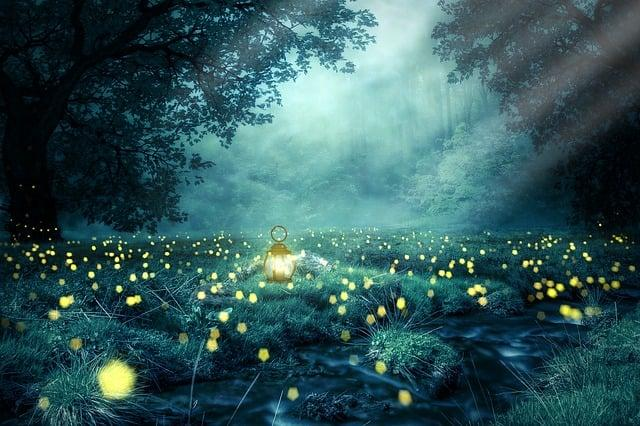Non_Gorille: (71, 46, 577, 410)
